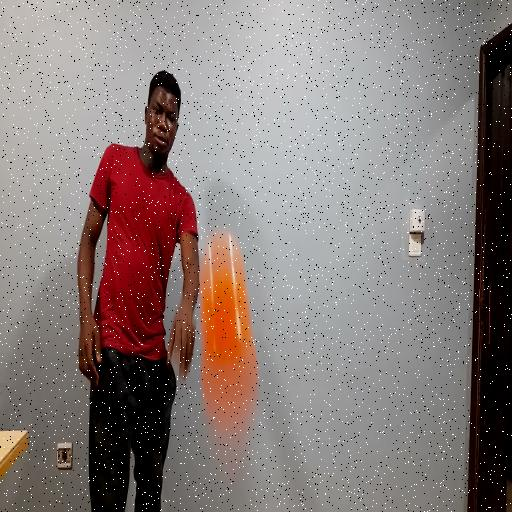plastic-ball: (191, 225, 264, 439)
